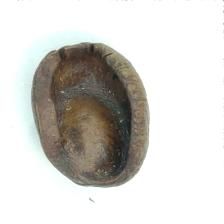NG: (34, 42, 145, 186)
